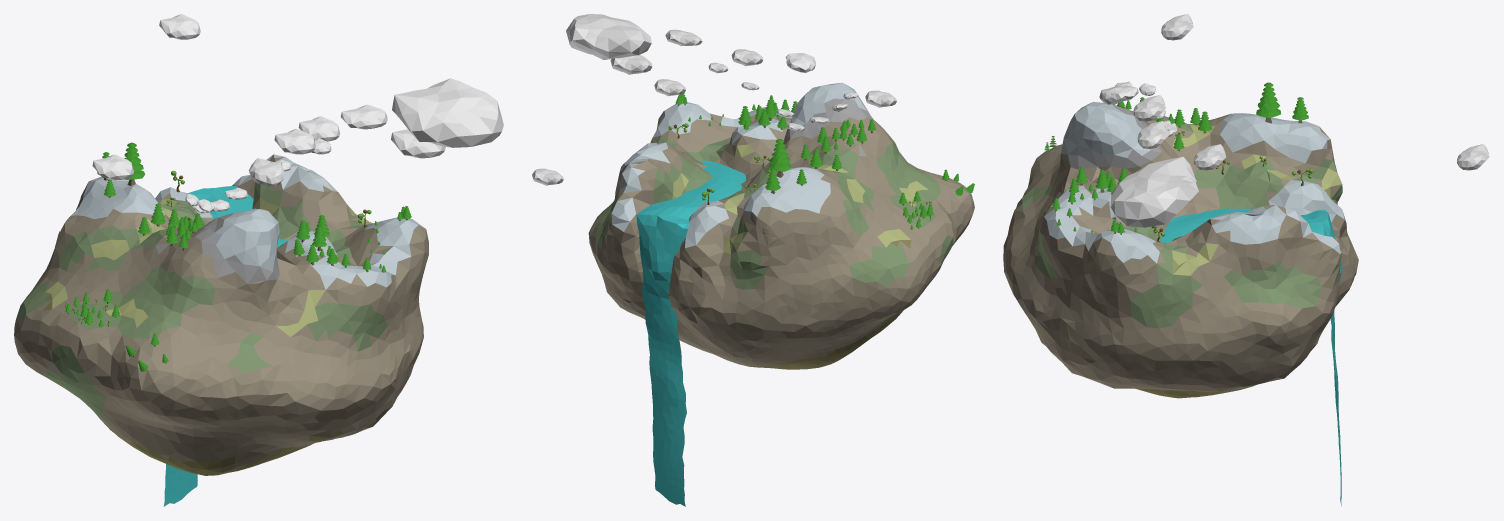
File: floating_island-v3.glb
The picture shows the model from 3 angles, left to right: view 1: azimuth 30°, elevation 25°; view 2: azimuth 150°, elevation 25°; view 3: azimuth 270°, elevation 25°; orthographic projection. The views are drawn at different scales.
Parts seen in each view (by area): view 1: Icosphere, Icosphere.001, Plane; view 2: Icosphere, Plane, Icosphere.001, Plane.061; view 3: Icosphere, Icosphere.001, Plane, Plane.061.
Part boxes in pixels (left/top/right/bottom): Icosphere: left=14, top=154, right=428, bottom=475; Icosphere.001: left=92, top=14, right=503, bottom=213; Plane: left=163, top=186, right=288, bottom=506; Icosphere: left=588, top=82, right=974, bottom=369; Plane: left=636, top=160, right=745, bottom=506; Icosphere.001: left=532, top=14, right=896, bottom=185; Plane.061: left=768, top=139, right=791, bottom=177; Icosphere: left=1003, top=101, right=1358, bottom=398; Icosphere.001: left=1099, top=14, right=1489, bottom=227; Plane: left=1161, top=208, right=1342, bottom=505; Plane.061: left=1256, top=82, right=1280, bottom=123.
Size of the model in its own units: 2498 by 2423 by 2552.
